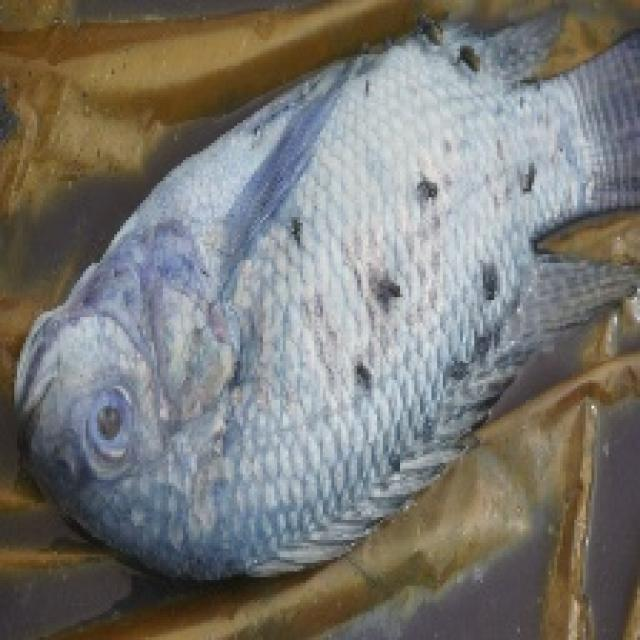Non-Fresh: (8, 57, 640, 560)
